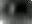person: (10, 5, 16, 17)
